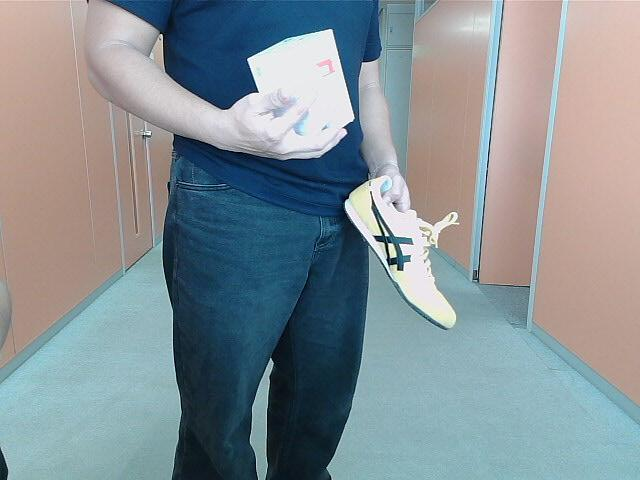Blind_box: (250, 31, 358, 139)
Shoes: (344, 169, 456, 332)
